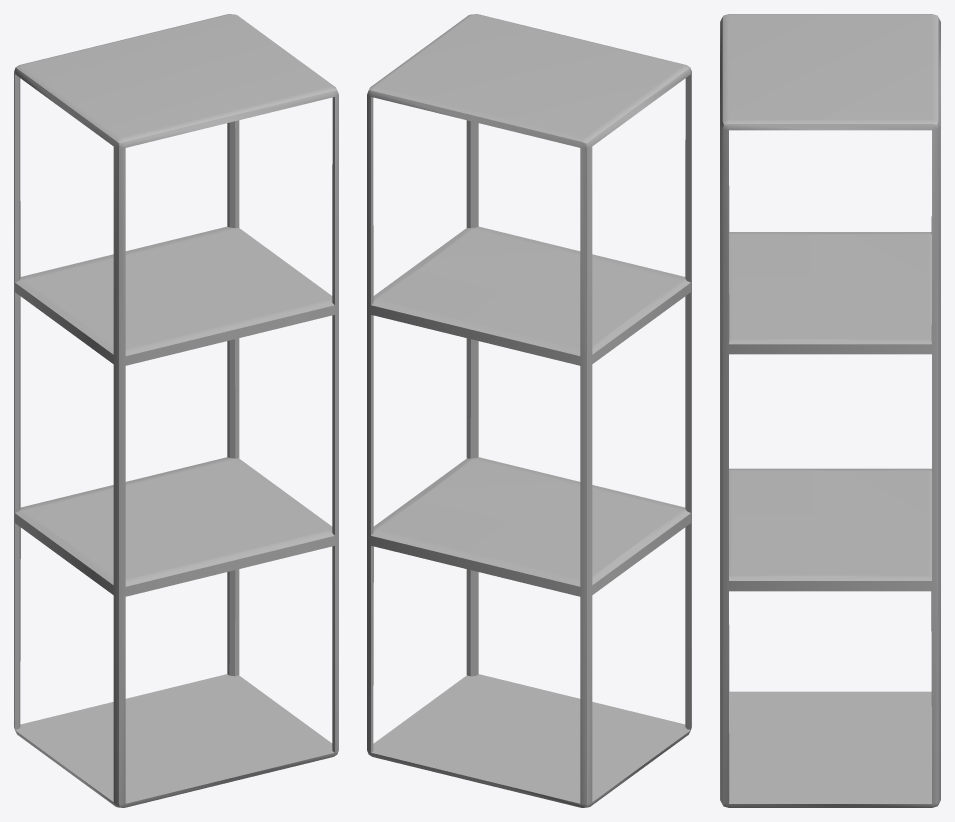
Rendered from shelf.fbx.
The picture shows the model from 3 angles, left to right: view 1: azimuth 30°, elevation 25°; view 2: azimuth 150°, elevation 25°; view 3: azimuth 270°, elevation 25°; orthographic projection. The views are drawn at different scales.
Parts seen in each view (by area): view 1: polySurface29, polySurface23, polySurface17, polySurface26, polySurface22, polySurface24, polySurface21, polySurface18, polySurface25, polySurface20, polySurface27, polySurface19 (+1 smaller); view 2: polySurface29, polySurface21, polySurface20, polySurface27, polySurface24, polySurface22, polySurface23, polySurface19, polySurface28, polySurface17, polySurface26, polySurface18 (+1 smaller); view 3: polySurface29, polySurface22, polySurface24, polySurface28, polySurface25, polySurface18, polySurface19.
Part boxes in pixels (bbox=[...]): polySurface29: bbox=[14, 14, 338, 807]; polySurface23: bbox=[113, 364, 125, 587]; polySurface17: bbox=[113, 147, 125, 356]; polySurface26: bbox=[113, 595, 125, 803]; polySurface22: bbox=[227, 338, 239, 458]; polySurface24: bbox=[332, 313, 338, 535]; polySurface21: bbox=[14, 290, 20, 512]; polySurface18: bbox=[332, 95, 338, 304]; polySurface25: bbox=[332, 543, 338, 752]; polySurface20: bbox=[14, 72, 20, 282]; polySurface27: bbox=[14, 521, 20, 729]; polySurface19: bbox=[227, 120, 239, 228]; polySurface29: bbox=[367, 14, 691, 807]; polySurface21: bbox=[580, 364, 592, 587]; polySurface20: bbox=[580, 147, 592, 356]; polySurface27: bbox=[580, 595, 592, 803]; polySurface24: bbox=[466, 338, 478, 458]; polySurface22: bbox=[367, 313, 373, 535]; polySurface23: bbox=[685, 290, 691, 512]; polySurface19: bbox=[367, 95, 373, 304]; polySurface28: bbox=[367, 543, 373, 752]; polySurface17: bbox=[685, 72, 691, 282]; polySurface26: bbox=[685, 521, 691, 729]; polySurface18: bbox=[466, 120, 478, 228]; polySurface29: bbox=[720, 14, 940, 807]; polySurface22: bbox=[932, 351, 940, 580]; polySurface24: bbox=[720, 351, 728, 580]; polySurface28: bbox=[931, 588, 940, 803]; polySurface25: bbox=[720, 588, 729, 803]; polySurface18: bbox=[720, 127, 729, 344]; polySurface19: bbox=[931, 127, 940, 344].
Bounding box in the file's own units: 2.27 × 6.48 × 1.89.
1 material, 1 textured.
